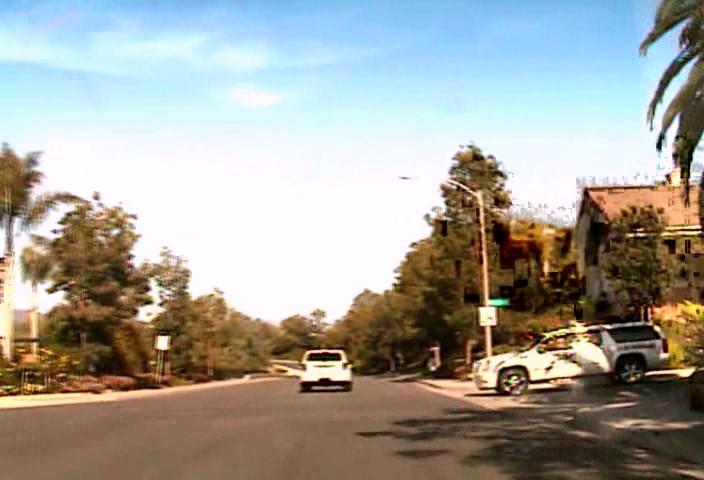speedLimitUrdbl: (478, 305, 497, 326)
